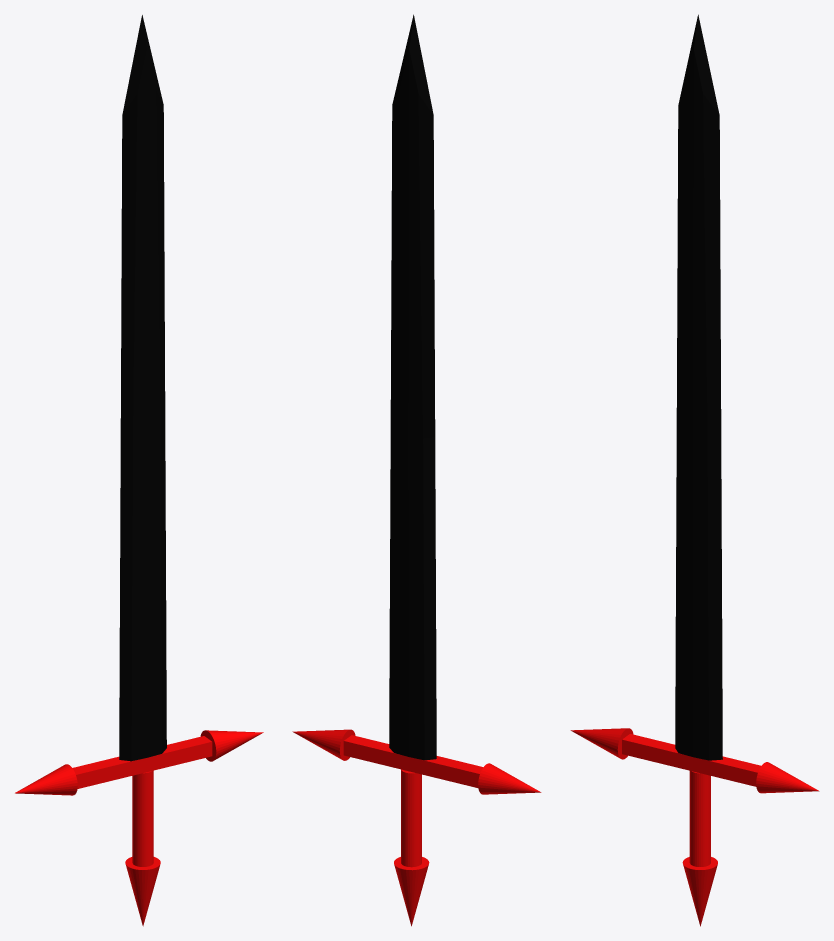
File: sword finish.fbx
The picture shows the model from 3 angles, left to right: view 1: azimuth 30°, elevation 25°; view 2: azimuth 150°, elevation 25°; view 3: azimuth 330°, elevation 25°; orthographic projection.
Visible parts, largest first — view 1: Cylinder; view 2: Cylinder; view 3: Cylinder.
Part boxes in pixels (left/top/right/bottom): Cylinder: left=15, top=15, right=263, bottom=926; Cylinder: left=292, top=14, right=541, bottom=926; Cylinder: left=570, top=14, right=819, bottom=926.
Size of the model in its own units: 81.23 by 284 by 10.
